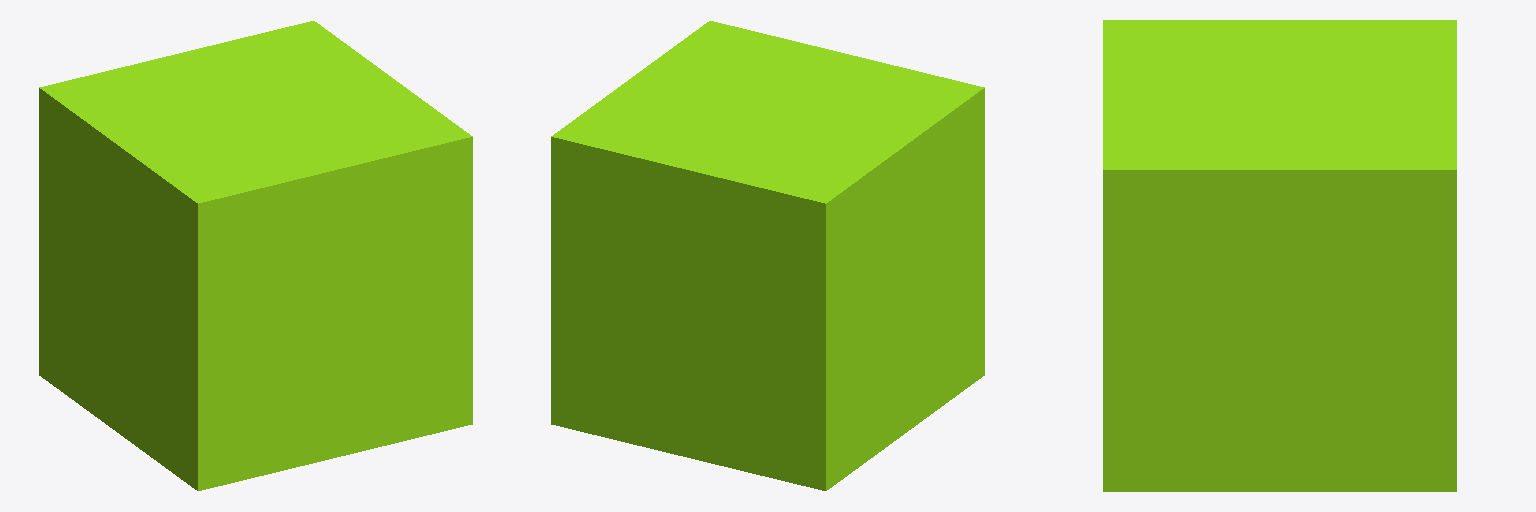
robot.urdf — random_box:
<?xml version='1.0' encoding='UTF-8'?>
<robot name="random_box">
  <link name="box">
    <visual>
      <geometry>
        <box size="0.05 0.05 0.05"/>
      </geometry>
      <material name="color">
        <color rgba="0.6529401250435345 0.9510562535942396 0.16318030309141363 1"/>
      </material>
    </visual>
    <collision>
      <geometry>
        <box size="0.05 0.05 0.05"/>
      </geometry>
    </collision>
  </link>
</robot>

--- Facts derived from the render (not from the file) ---
3 views of the same robot in one strip: view 1: azimuth 30°, elevation 25°; view 2: azimuth 150°, elevation 25°; view 3: azimuth 270°, elevation 25° (orthographic).
Model random_box with 1 links and 0 joints (none), rooted at box, posed all joints at 0.
Visible links, largest first — view 1: box; view 2: box; view 3: box.
Link boxes in pixels (box(x1,y1,x2,y2)): box: box(39, 21, 472, 490); box: box(551, 21, 984, 490); box: box(1103, 20, 1456, 491).
Size in the robot's own frame: 0.05 by 0.05 by 0.05 metres.
Geometry: primitives only (box / cylinder / sphere), no mesh files.